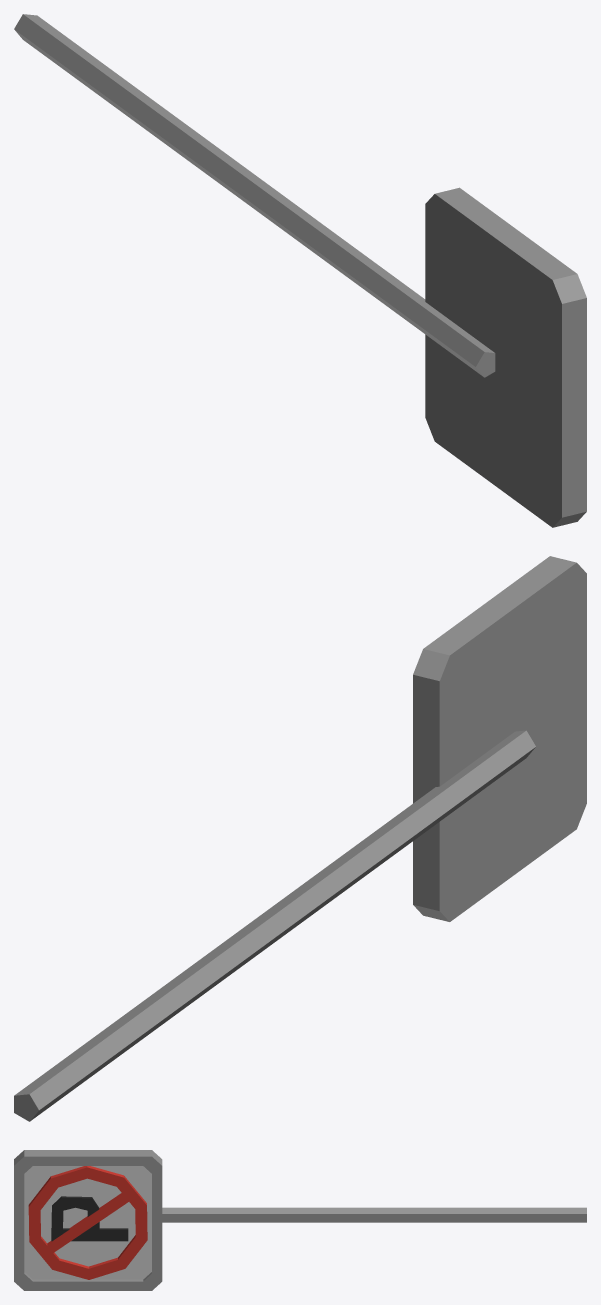
File: no-parking-sign.obj
3 renders of one model, top to bottom at view 1: azimuth 30°, elevation 25°; view 2: azimuth 150°, elevation 25°; view 3: azimuth 270°, elevation 25°, orthographic. The views are drawn at different scales.
Parts seen in each view (by area): view 1: no-parking-sign; view 2: no-parking-sign; view 3: no-parking-sign.
Part boxes in pixels (left/top/right/bottom): no-parking-sign: left=14, top=14, right=586, bottom=527; no-parking-sign: left=14, top=556, right=586, bottom=1121; no-parking-sign: left=14, top=1150, right=586, bottom=1290.
Size of the model in its own units: 4.19 by 21.73 by 84.
